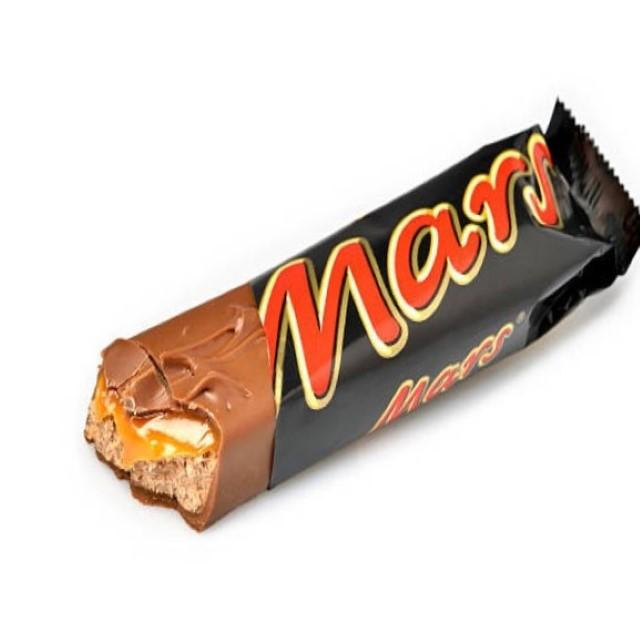mars_chocolate: (252, 115, 595, 477)
